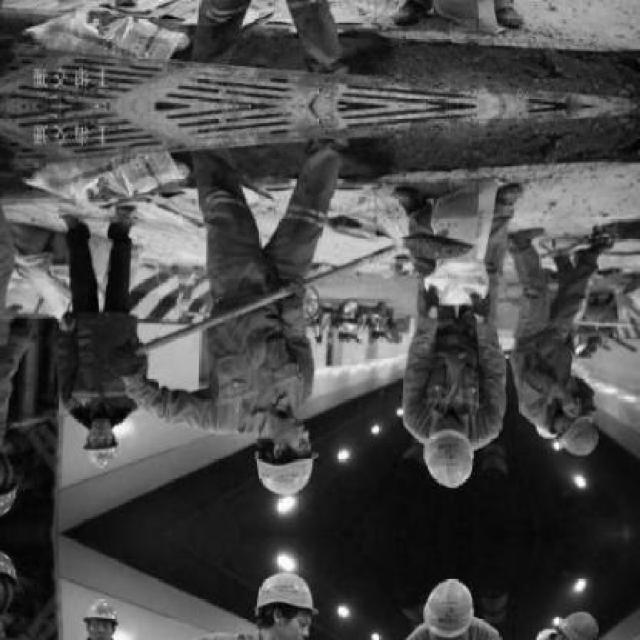helmet: (420, 427, 490, 494), (247, 450, 331, 504), (551, 416, 613, 466), (78, 442, 124, 470)
